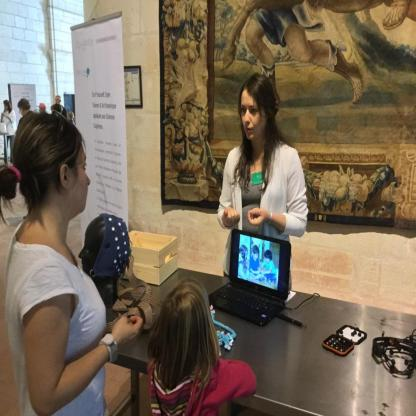board: (212, 220, 295, 332)
